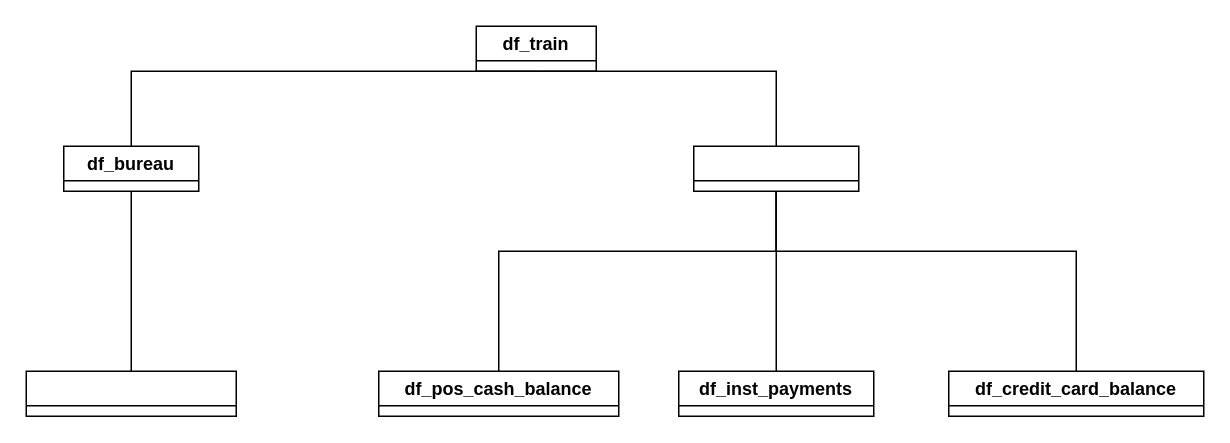
Image size: 1230x443. Some labels were removed from this diagram. Each missing label, with the box of its shape:
df_bureau_balance: (25, 370, 236, 416)
df_prev_app: (692, 145, 859, 191)
